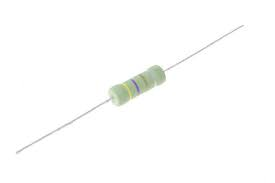resistor: (98, 50, 176, 114)
